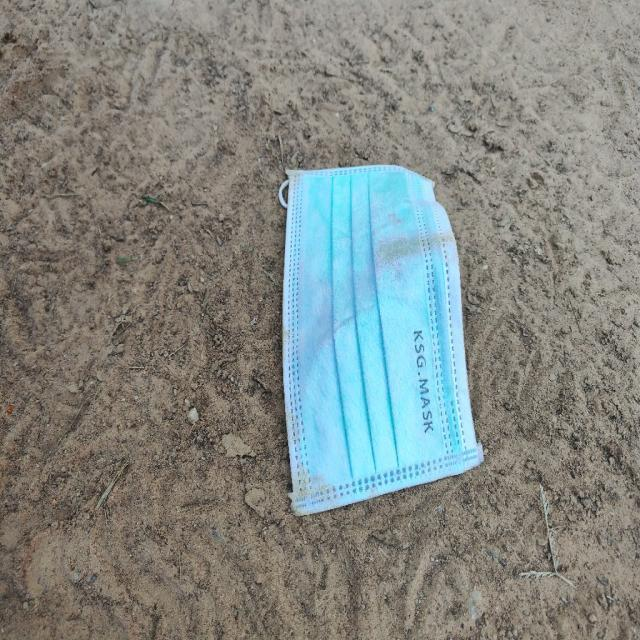face mask: (277, 156, 485, 516)
